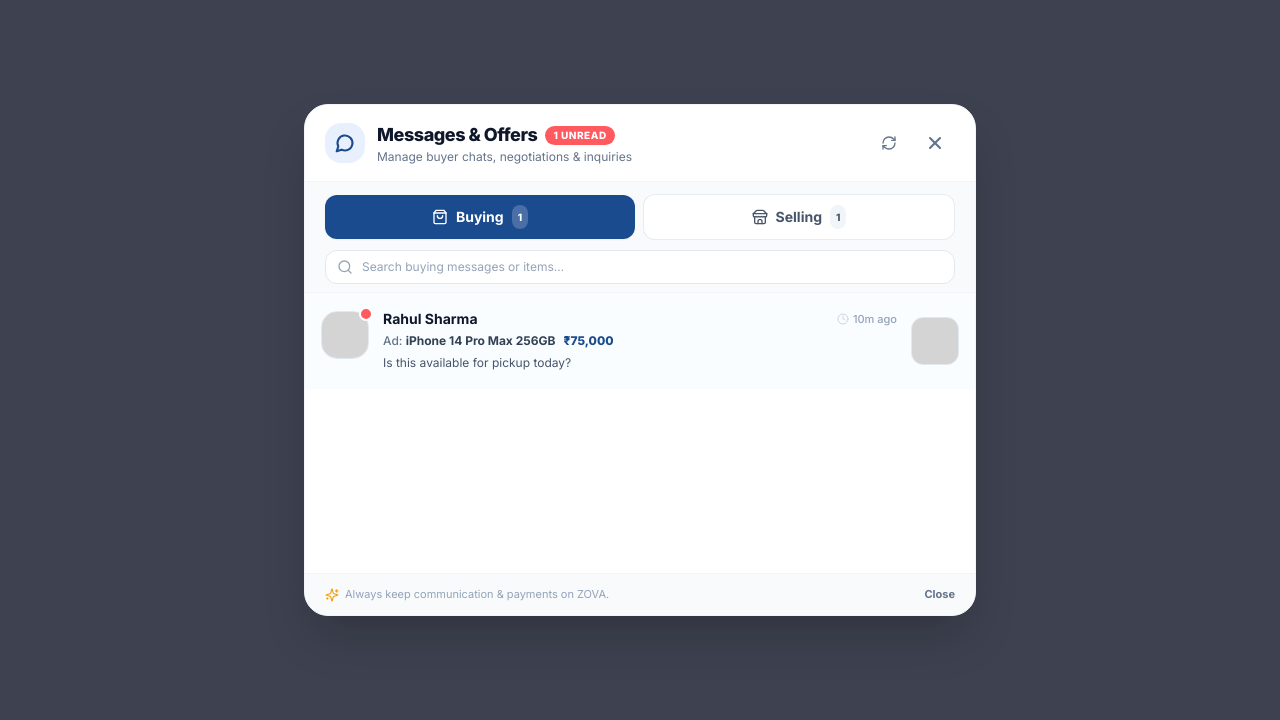
Test: Chat Inbox & App Promo Banner Removal Suite › Part 3: ChatInboxModal Tabs, Conversation Selection & Empty State › renders Buying tab with seller name and Selling tab with buyer name
This screenshot has width=1280, height=720.
Expected: the heading "Rahul Sharma" is shown, [383,309,478,329]
Expected: the text "Is this available for pickup today?" is shown, [383,355,571,370]
# Switch to Selling tab
Click the button with test id "inbox-tab-selling". click: (799,217)
box: [643,194,955,240]
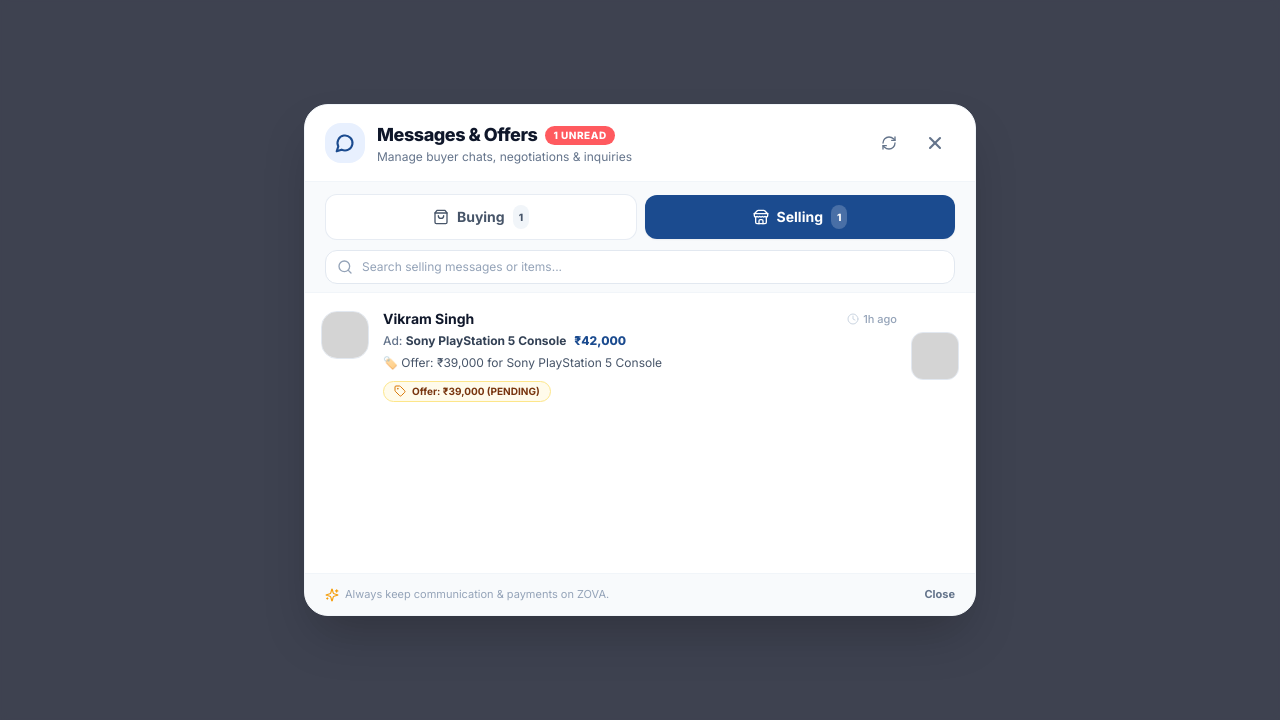
Expected: the heading "Vikram Singh" is shown, [383,309,474,329]
